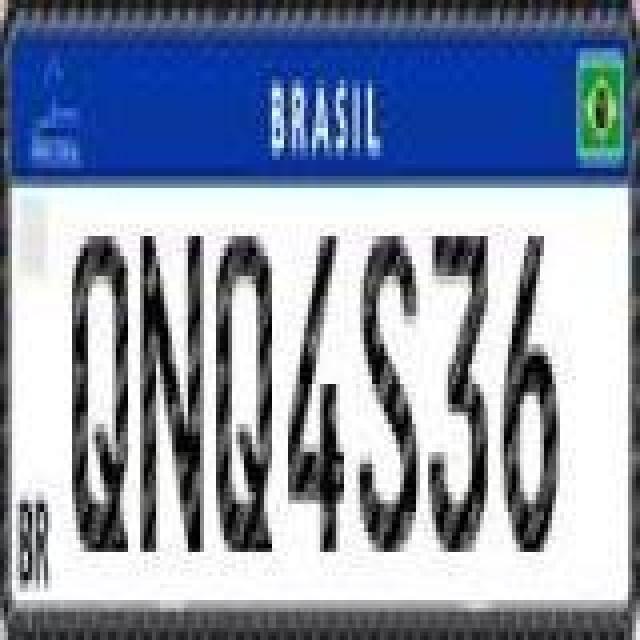3: (424, 230, 488, 554)
4: (286, 230, 346, 554)
6: (496, 224, 560, 560)
N: (138, 230, 206, 554)
Q: (68, 230, 132, 554), (212, 230, 276, 554)
S: (356, 224, 420, 560)
